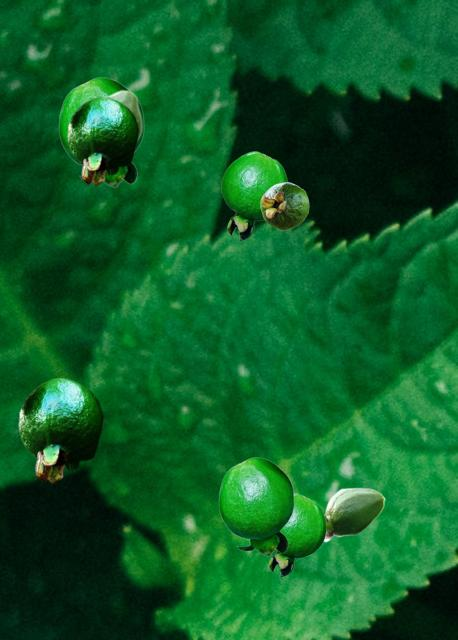guava: (58, 77, 143, 186), (18, 377, 103, 483), (218, 457, 293, 555), (67, 96, 138, 185), (221, 151, 287, 240), (268, 493, 325, 576), (324, 487, 384, 541), (260, 182, 308, 229), (106, 89, 141, 141)
